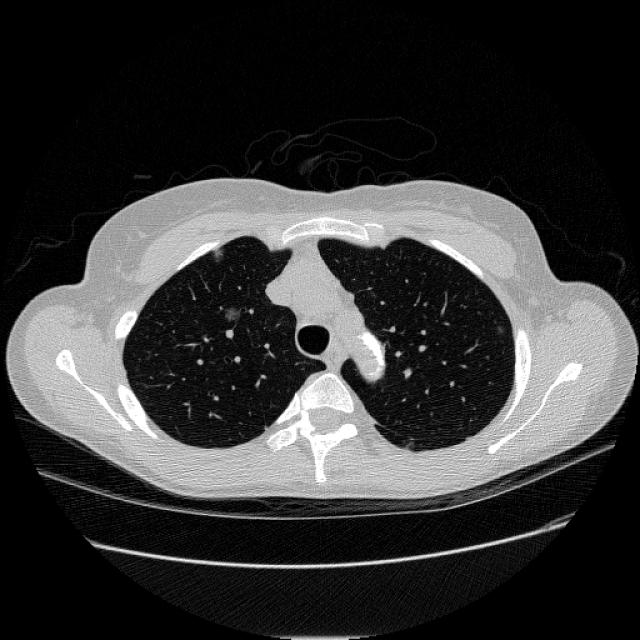nodule: (215, 299, 245, 329)
